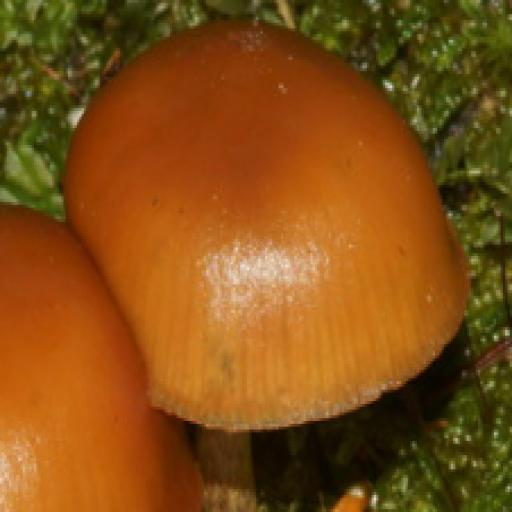mushroom: (57, 13, 473, 442)
